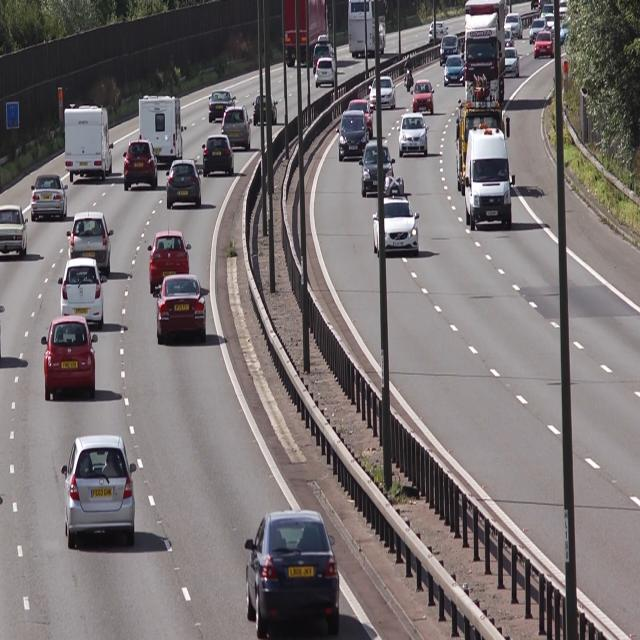Car: (244, 510, 340, 640), (61, 430, 138, 551), (37, 316, 102, 402), (465, 132, 516, 228), (65, 104, 116, 186), (465, 1, 504, 104), (153, 274, 210, 344), (56, 254, 106, 332), (375, 176, 419, 264), (136, 94, 187, 163), (66, 208, 116, 278), (143, 225, 193, 295), (122, 138, 161, 191), (30, 171, 71, 220), (360, 139, 394, 196), (166, 159, 203, 208), (0, 196, 26, 260), (397, 111, 429, 162), (339, 107, 369, 161), (220, 103, 253, 152), (202, 131, 236, 178), (204, 84, 237, 122), (370, 73, 397, 114), (412, 77, 437, 120), (253, 91, 280, 125), (442, 57, 464, 89), (316, 59, 336, 90), (536, 33, 554, 61)
